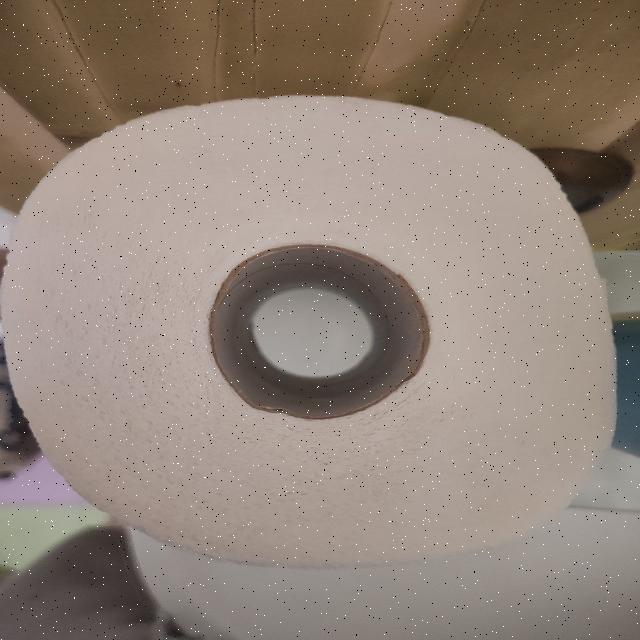Circle: (0, 90, 627, 572)
